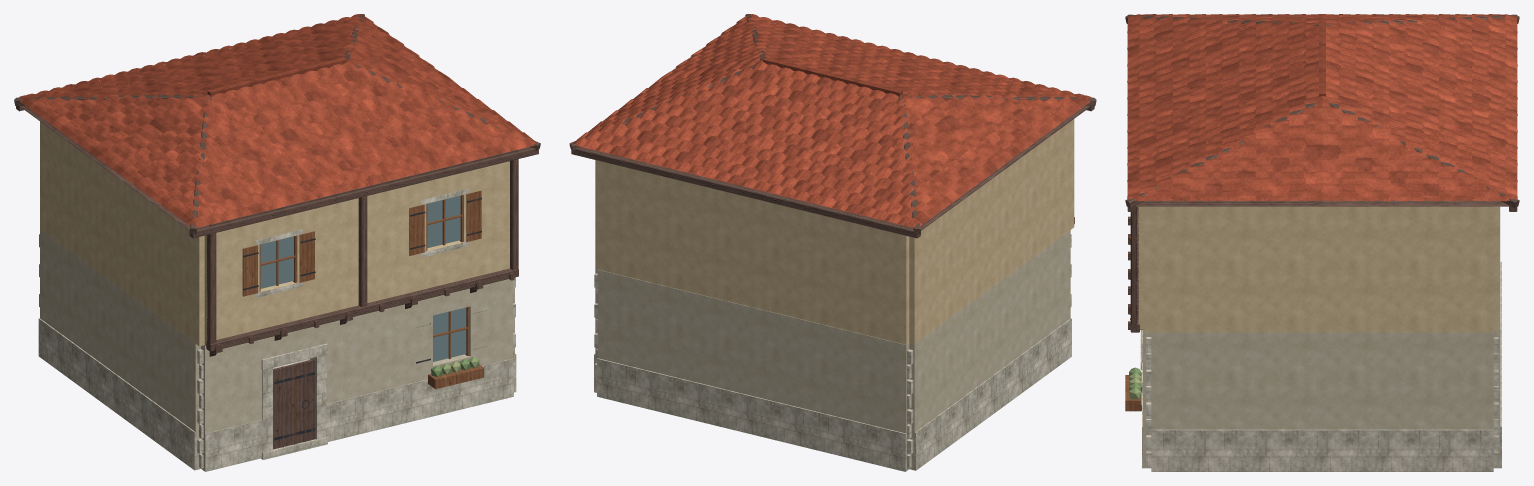
Rendered from B10_vivienda.glb.
The picture shows the model from 3 angles, left to right: view 1: azimuth 30°, elevation 25°; view 2: azimuth 150°, elevation 25°; view 3: azimuth 270°, elevation 25°; orthographic projection. The views are drawn at different scales.
Parts seen in each view (by area): view 1: AUR034_B10_clay_tiles, AUR034_B10_upper_plaster, AUR034_B10_lower_masonry, AUR034_B10_projecting_stone_plinth, AUR034_B10_entry_leaf0, AUR034_B10_sill, AUR034_B10_fascia-1, AUR034_B10_window0_glazing, AUR034_B10_window1_glazing, AUR034_B10_window2_glazing, AUR034_B10_post0, AUR034_B10_post1 (+14 smaller); view 2: AUR034_B10_clay_tiles, AUR034_B10_upper_plaster, AUR034_B10_lower_masonry, AUR034_B10_projecting_stone_plinth, AUR034_B10_fascia1, AUR034_B10_dressed_corner_stones, AUR034_B10_roof_sheathing, AUR034_B10_ridge; view 3: AUR034_B10_clay_tiles, AUR034_B10_upper_plaster, AUR034_B10_lower_masonry, AUR034_B10_projecting_stone_plinth, AUR034_B10_roof_sheathing, AUR034_B10_dressed_corner_stones, AUR034_B10_post2, AUR034_B10_ridge, AUR034_B10_hip_rafter_1-1, AUR034_B10_hip_rafter_11.
Part boxes in pixels (left/top/right/bottom): AUR034_B10_clay_tiles: left=19, top=14, right=536, bottom=227; AUR034_B10_upper_plaster: left=40, top=84, right=509, bottom=346; AUR034_B10_lower_masonry: left=40, top=230, right=514, bottom=471; AUR034_B10_projecting_stone_plinth: left=38, top=318, right=516, bottom=471; AUR034_B10_entry_leaf0: left=273, top=359, right=315, bottom=449; AUR034_B10_sill: left=206, top=268, right=518, bottom=351; AUR034_B10_fascia-1: left=189, top=147, right=538, bottom=238; AUR034_B10_window0_glazing: left=433, top=307, right=466, bottom=361; AUR034_B10_window1_glazing: left=260, top=236, right=293, bottom=288; AUR034_B10_window2_glazing: left=427, top=195, right=460, bottom=248; AUR034_B10_post0: left=207, top=233, right=216, bottom=347; AUR034_B10_post1: left=358, top=196, right=367, bottom=307; AUR034_B10_clay_tiles: left=573, top=14, right=1091, bottom=227; AUR034_B10_upper_plaster: left=595, top=33, right=1074, bottom=344; AUR034_B10_lower_masonry: left=595, top=230, right=1070, bottom=470; AUR034_B10_projecting_stone_plinth: left=594, top=318, right=1071, bottom=471; AUR034_B10_fascia1: left=571, top=147, right=920, bottom=238; AUR034_B10_dressed_corner_stones: left=594, top=234, right=1071, bottom=468; AUR034_B10_roof_sheathing: left=740, top=52, right=1090, bottom=230; AUR034_B10_ridge: left=763, top=57, right=902, bottom=96; AUR034_B10_clay_tiles: left=1128, top=14, right=1516, bottom=201; AUR034_B10_upper_plaster: left=1137, top=206, right=1499, bottom=332; AUR034_B10_lower_masonry: left=1143, top=207, right=1500, bottom=468; AUR034_B10_projecting_stone_plinth: left=1142, top=261, right=1501, bottom=471; AUR034_B10_roof_sheathing: left=1136, top=200, right=1508, bottom=206; AUR034_B10_dressed_corner_stones: left=1146, top=337, right=1498, bottom=466; AUR034_B10_post2: left=1131, top=206, right=1138, bottom=328; AUR034_B10_ridge: left=1319, top=21, right=1325, bottom=96; AUR034_B10_hip_rafter_1-1: left=1125, top=102, right=1316, bottom=208; AUR034_B10_hip_rafter_11: left=1328, top=102, right=1519, bottom=208.
Bounding box in the file's own units: 9.1 × 7.45 × 8.07.
Materials: 13 (9 with a texture image).
